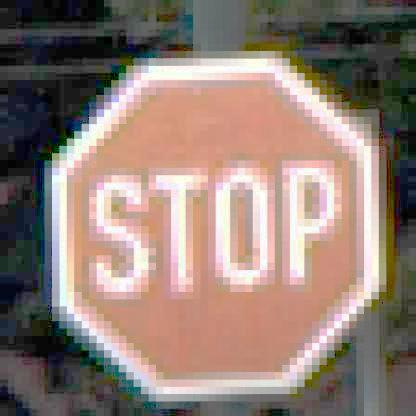Stop Sign: (44, 54, 386, 404)
